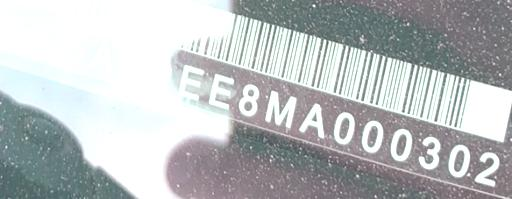letter: (262, 89, 298, 130), (296, 101, 326, 142), (206, 71, 236, 110), (177, 61, 205, 102), (473, 149, 501, 189), (86, 38, 114, 75), (145, 53, 173, 90), (388, 124, 414, 162), (417, 132, 441, 173), (331, 110, 357, 145), (36, 22, 62, 56), (446, 142, 470, 178), (64, 31, 88, 67), (360, 119, 384, 154), (238, 81, 260, 116), (118, 45, 140, 80), (13, 11, 33, 49)
